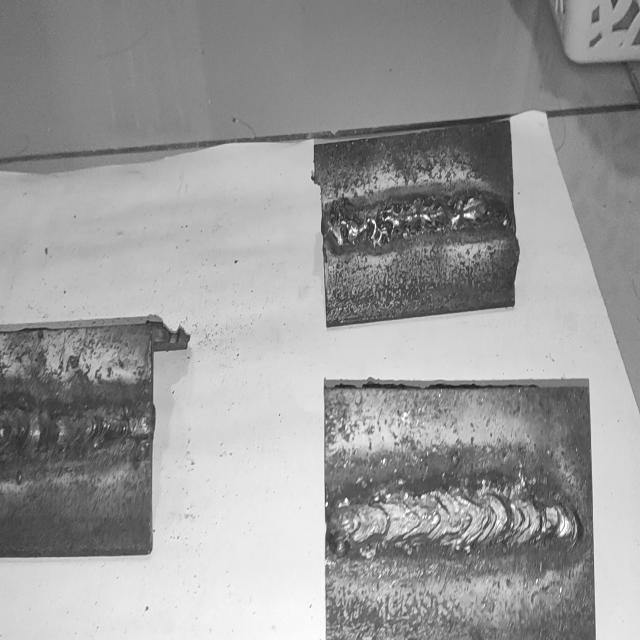Defect: (328, 191, 471, 247)
Welding Line: (328, 490, 582, 550), (322, 188, 512, 254), (0, 404, 152, 460)
Workpiece: (322, 383, 596, 640), (318, 118, 517, 333), (0, 322, 157, 556)
